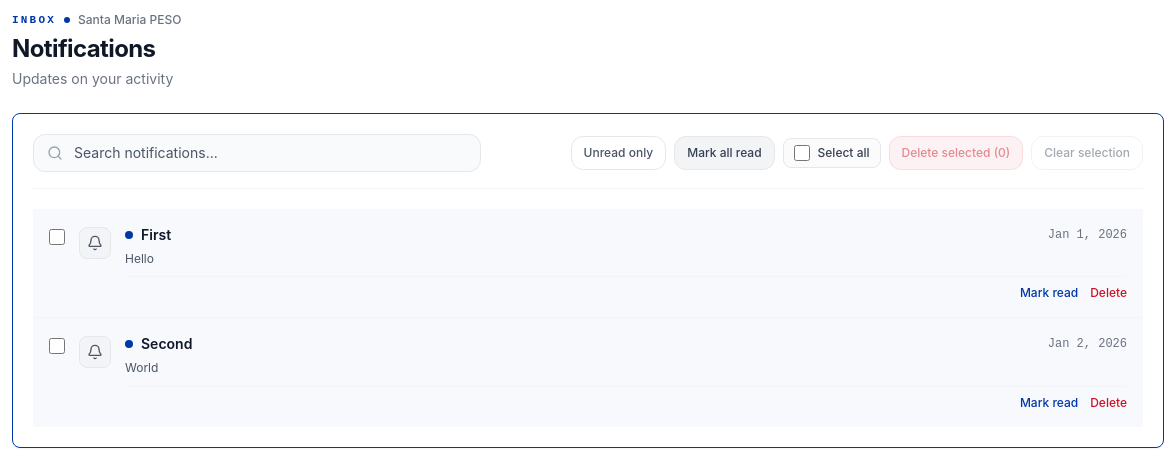
Test: NotificationsPage delete › Select all again clears the selection
Expected: the text "First" is shown, [141, 224, 171, 244]
Click the checkbox named "Select all notifications" at [802, 152], box [794, 144, 810, 160]
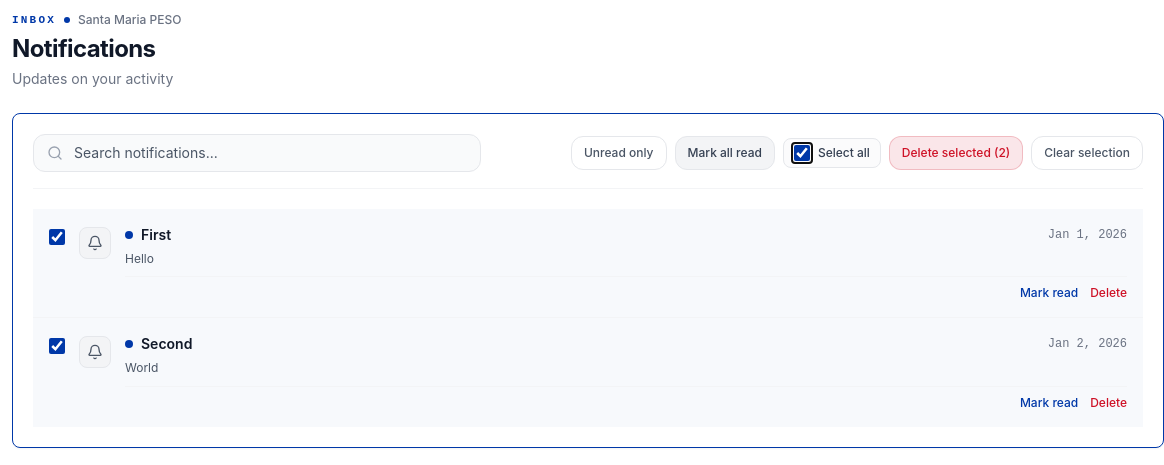
Click the checkbox named "Select all notifications" at [802, 152], box [794, 144, 810, 160]
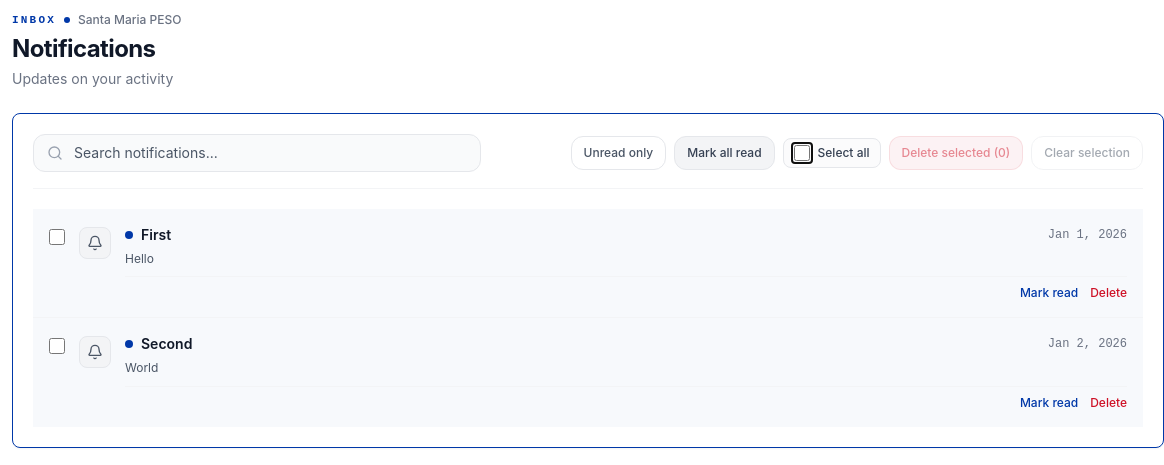
Now the checkbox named "Select notification First" is not checked, box [49, 228, 65, 244]
Now the button "Delete selected (0)" is disabled, box [888, 136, 1023, 170]
